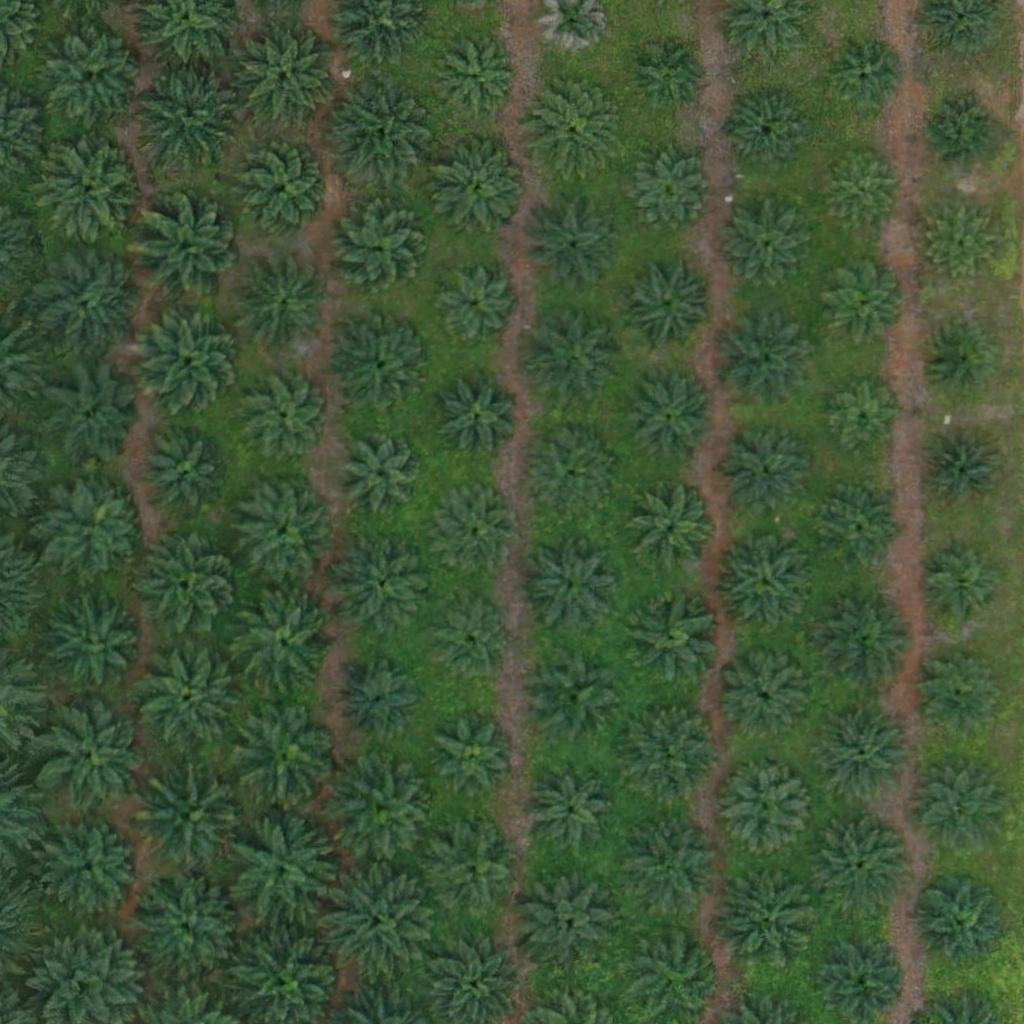Kelapa_Sawit: (137, 61, 250, 175), (131, 193, 244, 306), (133, 303, 246, 416), (225, 813, 338, 926), (323, 865, 436, 978), (324, 77, 436, 191), (37, 700, 149, 813), (132, 639, 244, 752), (139, 766, 251, 879), (132, 872, 244, 985), (44, 24, 144, 125), (528, 77, 628, 178), (711, 311, 811, 412), (616, 142, 716, 243), (616, 252, 716, 353), (522, 192, 622, 293), (335, 533, 435, 634), (233, 252, 333, 353), (234, 480, 334, 581), (234, 597, 334, 698), (138, 534, 238, 635), (37, 139, 137, 240), (34, 251, 134, 352), (43, 367, 143, 468), (44, 477, 144, 578), (41, 591, 141, 692), (43, 817, 143, 918), (525, 645, 625, 746), (620, 698, 720, 799), (625, 819, 725, 920), (716, 758, 816, 859), (715, 869, 815, 970), (818, 703, 918, 804), (811, 814, 911, 915), (910, 873, 1010, 974), (236, 29, 336, 129), (814, 592, 914, 692), (714, 531, 814, 631), (620, 588, 720, 688), (525, 308, 625, 408), (520, 535, 620, 635), (430, 136, 530, 236), (329, 198, 429, 298), (333, 314, 433, 414), (233, 139, 333, 239), (235, 701, 335, 801), (333, 761, 433, 861), (421, 819, 521, 919), (519, 867, 619, 967), (726, 89, 814, 178), (722, 654, 810, 743), (625, 29, 713, 117), (916, 547, 1004, 635), (819, 484, 907, 572), (721, 203, 809, 291), (720, 428, 808, 516), (433, 265, 521, 353), (142, 429, 230, 517), (527, 768, 615, 856), (817, 256, 904, 344), (920, 428, 1007, 516), (625, 376, 712, 464), (628, 487, 715, 575), (528, 436, 615, 524), (340, 428, 427, 516), (242, 372, 329, 460), (916, 648, 1003, 736), (916, 763, 1003, 851), (440, 39, 515, 115), (442, 382, 517, 458), (440, 493, 515, 569), (343, 663, 418, 739), (437, 716, 512, 792), (830, 40, 905, 115), (828, 382, 903, 457), (920, 203, 995, 278), (927, 95, 1002, 170), (822, 151, 897, 226), (432, 608, 507, 683), (925, 326, 988, 389)
